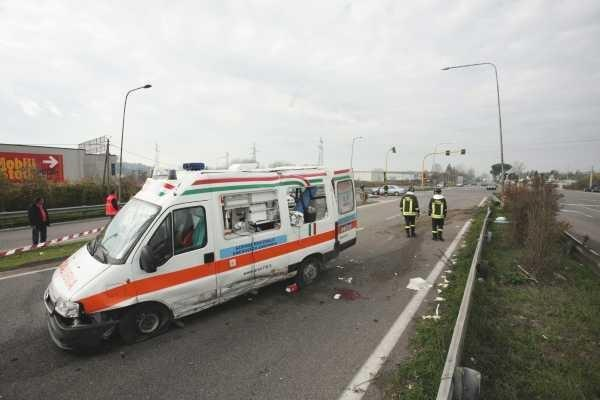car: (42, 161, 359, 353)
